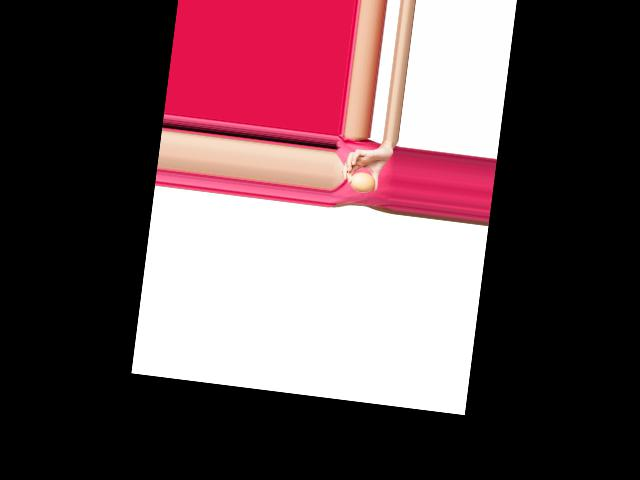egg: (348, 170, 376, 193)
